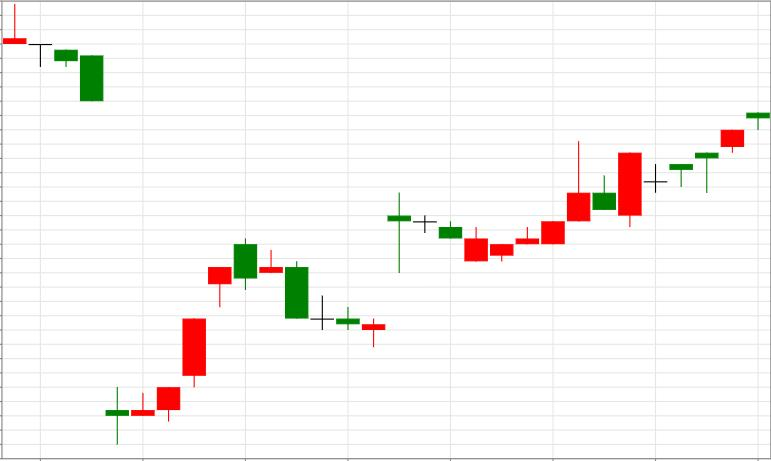shooting_star_fall: (491, 141, 591, 261)
